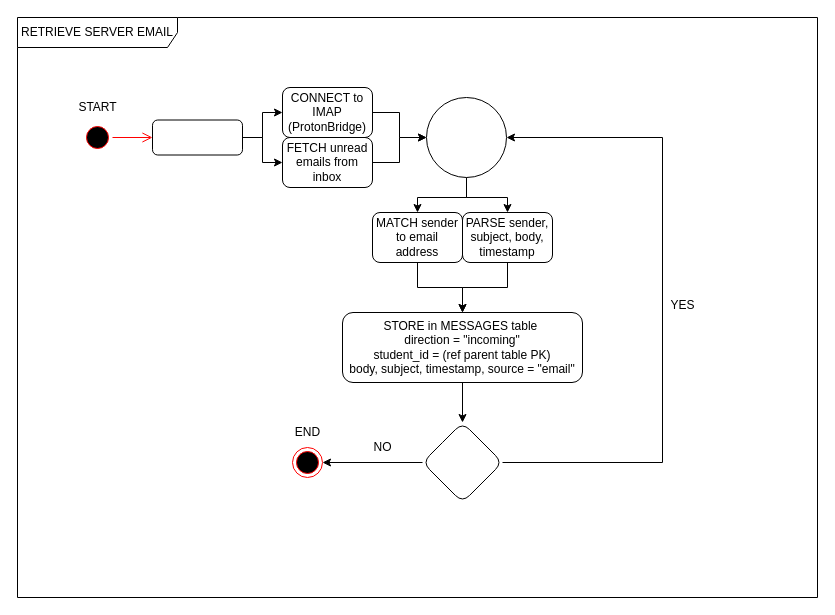
The diagram is 835 pixels wide and 615 high, and some of its shapes have lost their labels. The centre of each missing label's shape, as x and y in pixels:
Every Night 6PM: [197,137]
For each email: [466,137]
More Messages: [462,462]
